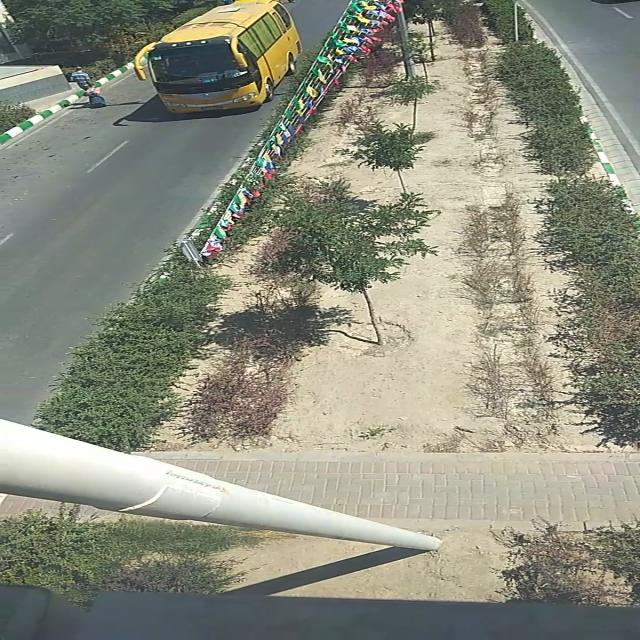bus: (134, 0, 303, 116)
